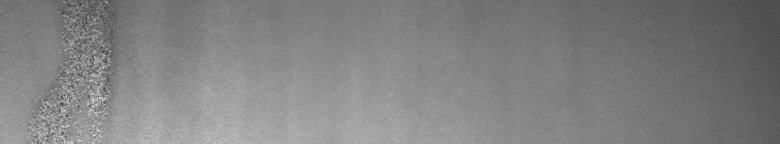hc: (27, 4, 123, 136)
